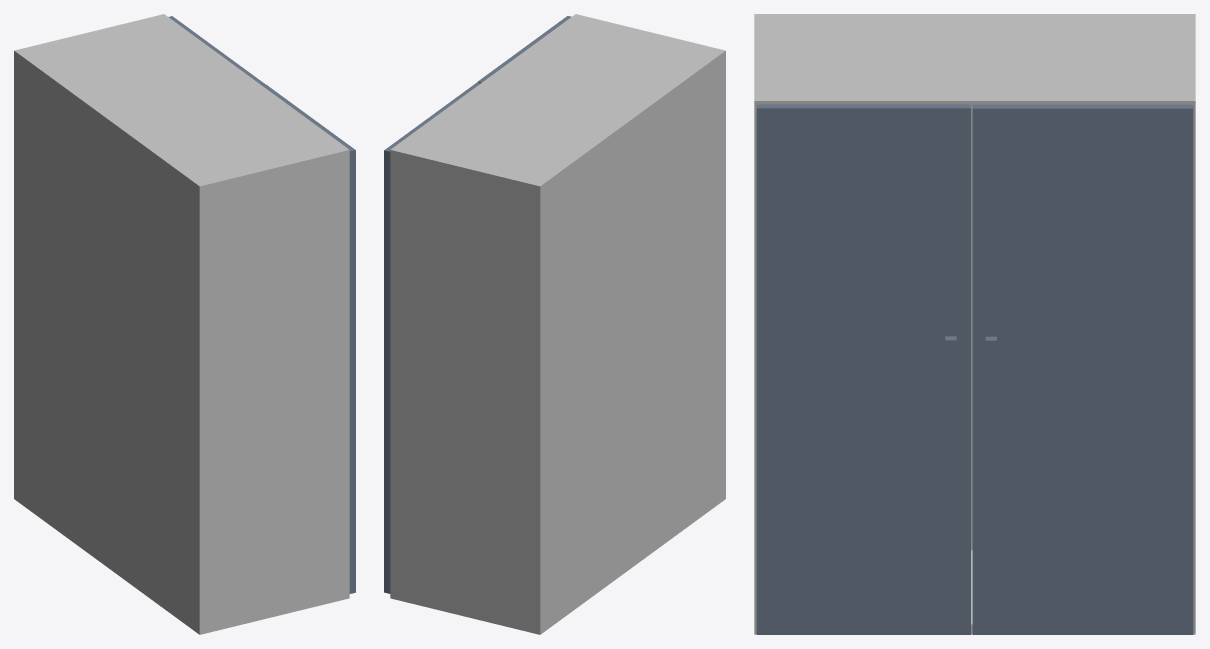
The model's file is Schaltschrank.dae.
3 views of the same model, side by side, from view 1: azimuth 30°, elevation 25°; view 2: azimuth 150°, elevation 25°; view 3: azimuth 270°, elevation 25° (orthographic). The views are drawn at different scales.
Visible parts, largest first — view 1: Schrank, Door Left; view 2: Schrank, Door Right; view 3: Door Right, Door Left, Schrank.
Part boxes in pixels (bbox=[...]): Schrank: bbox=[14, 14, 349, 634]; Door Left: bbox=[262, 84, 355, 593]; Schrank: bbox=[390, 14, 725, 634]; Door Right: bbox=[384, 82, 480, 593]; Door Right: bbox=[972, 104, 1193, 634]; Door Left: bbox=[756, 104, 970, 634]; Schrank: bbox=[754, 14, 1195, 634].
Size of the model in its own units: 1.53 by 3 by 4.
